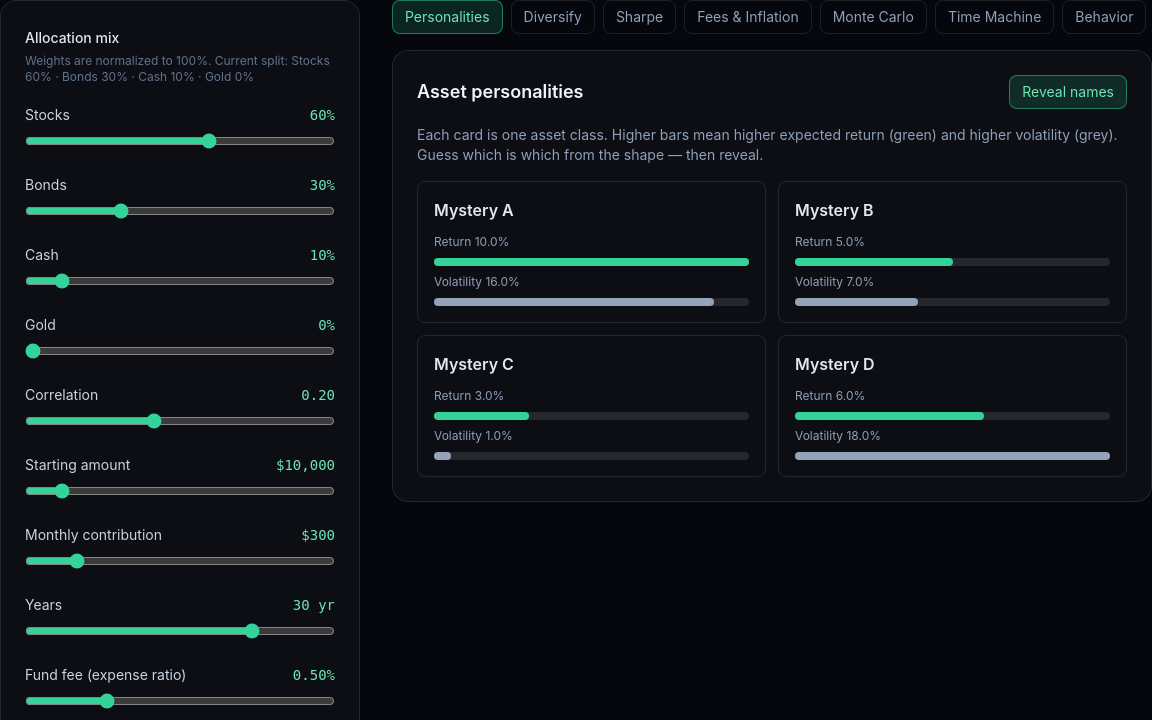
Test case: PortfolioSandboxPage — framing › formats currency for the chosen locale
Click the tab "Fees & Inflation" at (748, 17), box [684,0,812,34]
(page scrolled)
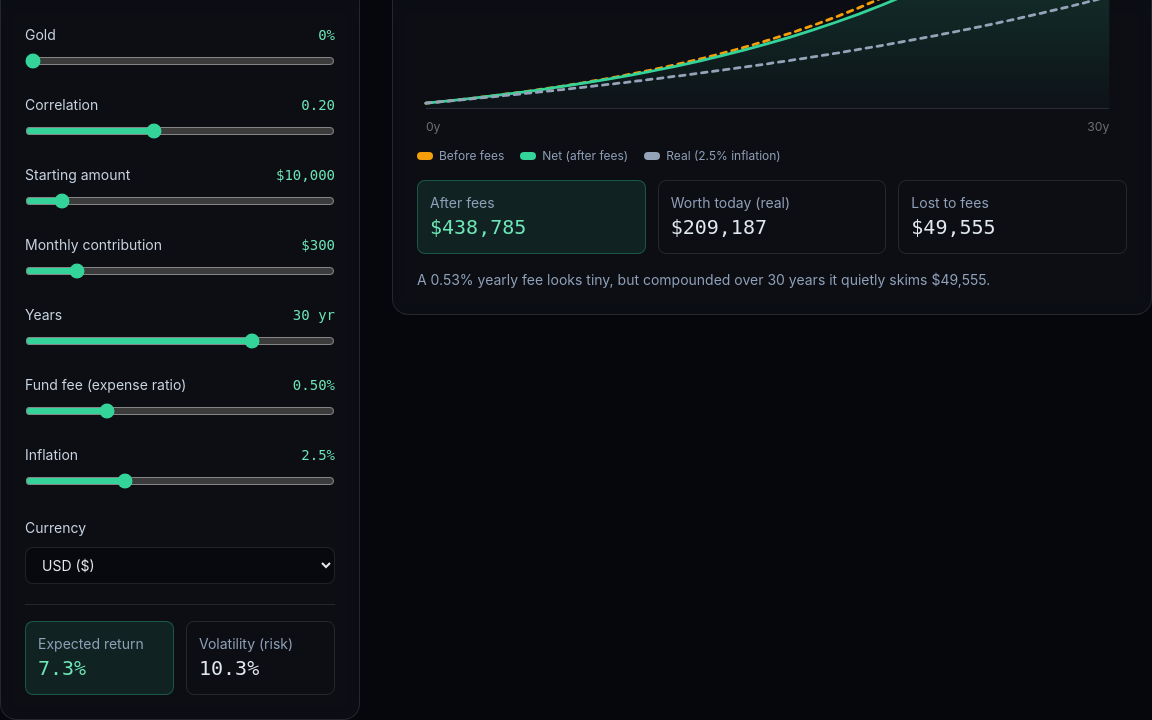
Expected: the text "$438,785" is shown, [430,215,526,239]
Select "EUR (€)" in the dropdown labelled "Currency" at (180, 566), box [25,547,335,584]
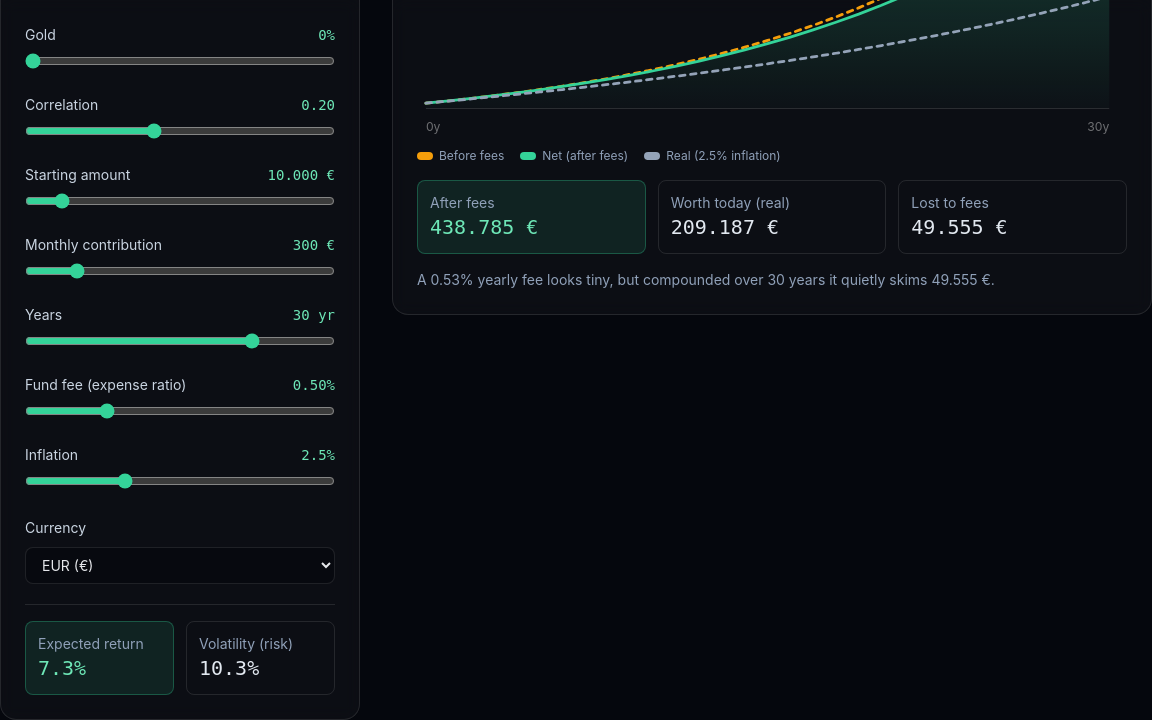
Expected: the text "438.785 €" is shown, [430,215,538,239]
